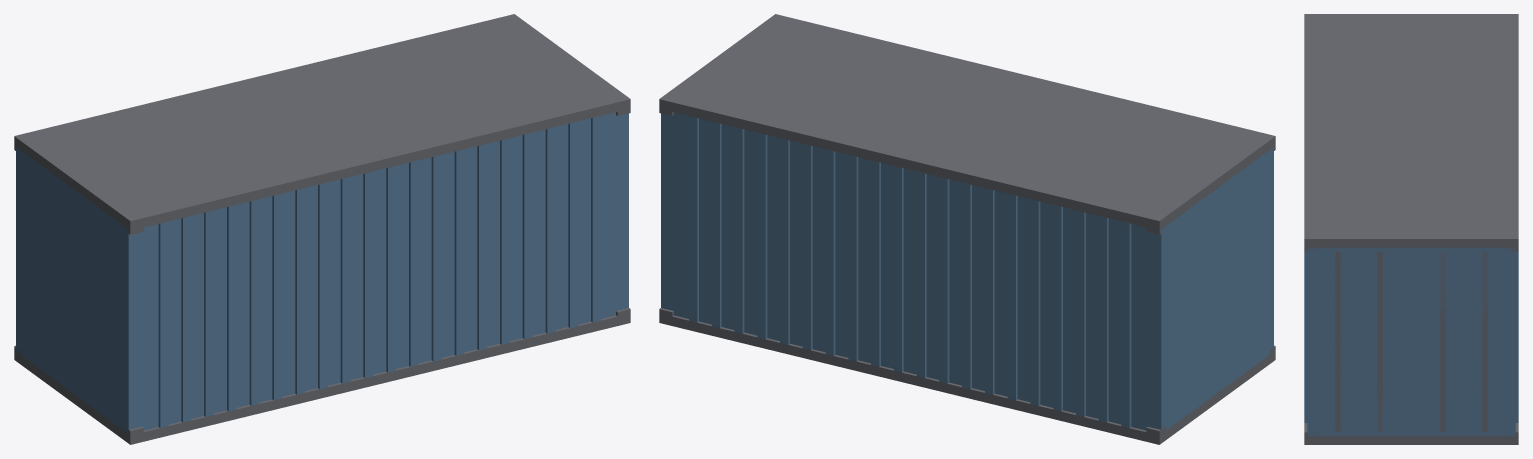
The model's file is SM_Container_Blue.fbx.
3 renders of one model, left to right at view 1: azimuth 30°, elevation 25°; view 2: azimuth 150°, elevation 25°; view 3: azimuth 270°, elevation 25°, orthographic. The views are drawn at different scales.
Visible parts, largest first — view 1: SM_Container_Blue; view 2: SM_Container_Blue; view 3: SM_Container_Blue.
Part boxes in pixels (left/top/right/bottom): SM_Container_Blue: left=14, top=14, right=630, bottom=444; SM_Container_Blue: left=659, top=14, right=1275, bottom=444; SM_Container_Blue: left=1304, top=14, right=1518, bottom=444.
Bounding box in the file's own units: 606 × 259 × 244.
